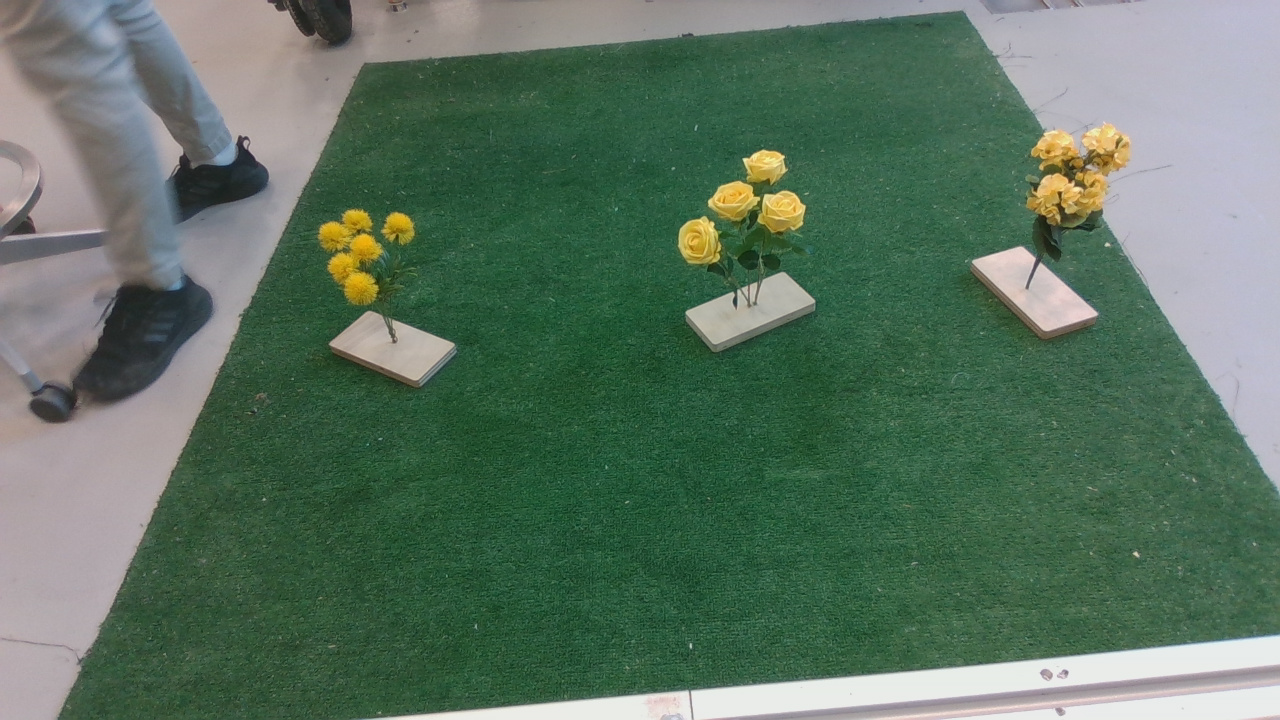dandelion: (321, 202, 433, 315)
geranium: (1019, 120, 1143, 272)
rose: (672, 148, 814, 290)
